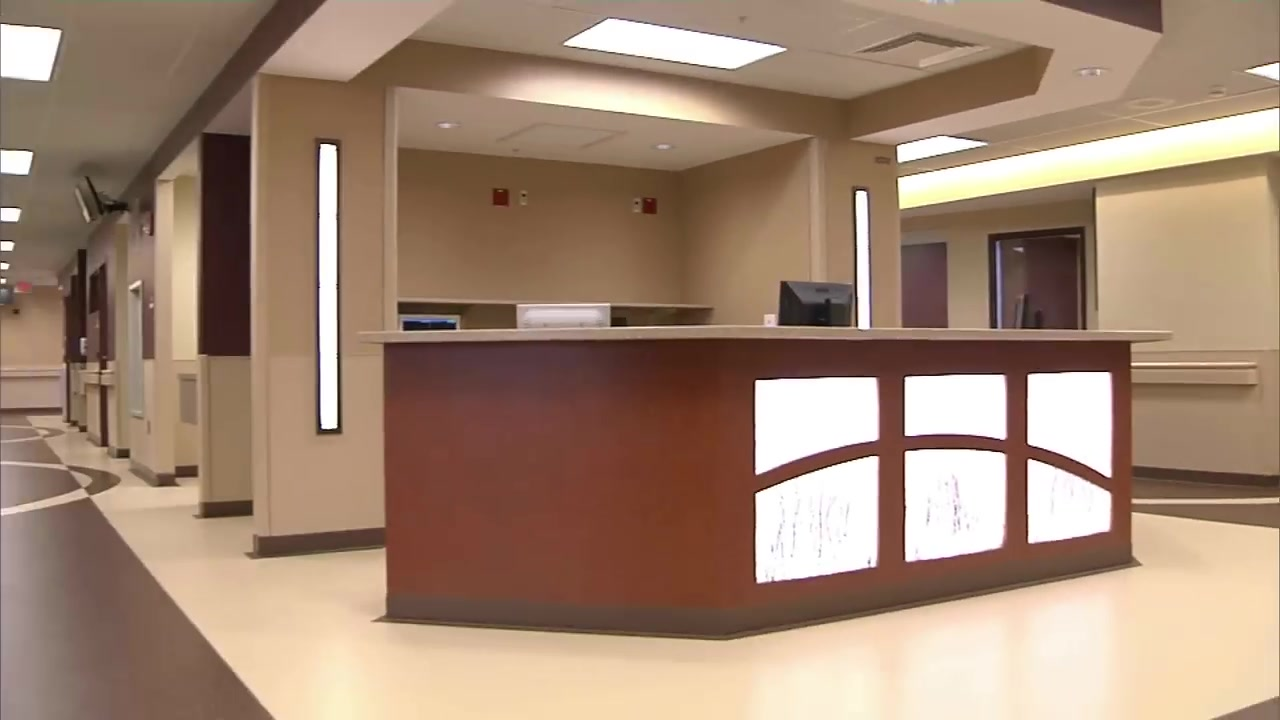TV: (75, 174, 104, 222), (74, 186, 93, 224)
computer: (778, 280, 855, 329), (515, 302, 613, 329), (397, 313, 462, 331)
counter: (362, 327, 1157, 639)
countertop: (349, 324, 1180, 344)
dispenser: (78, 336, 89, 357)
hallway_assist_bar: (1126, 362, 1261, 389), (78, 369, 99, 385), (100, 371, 115, 386)
light_switch: (762, 313, 776, 329)
